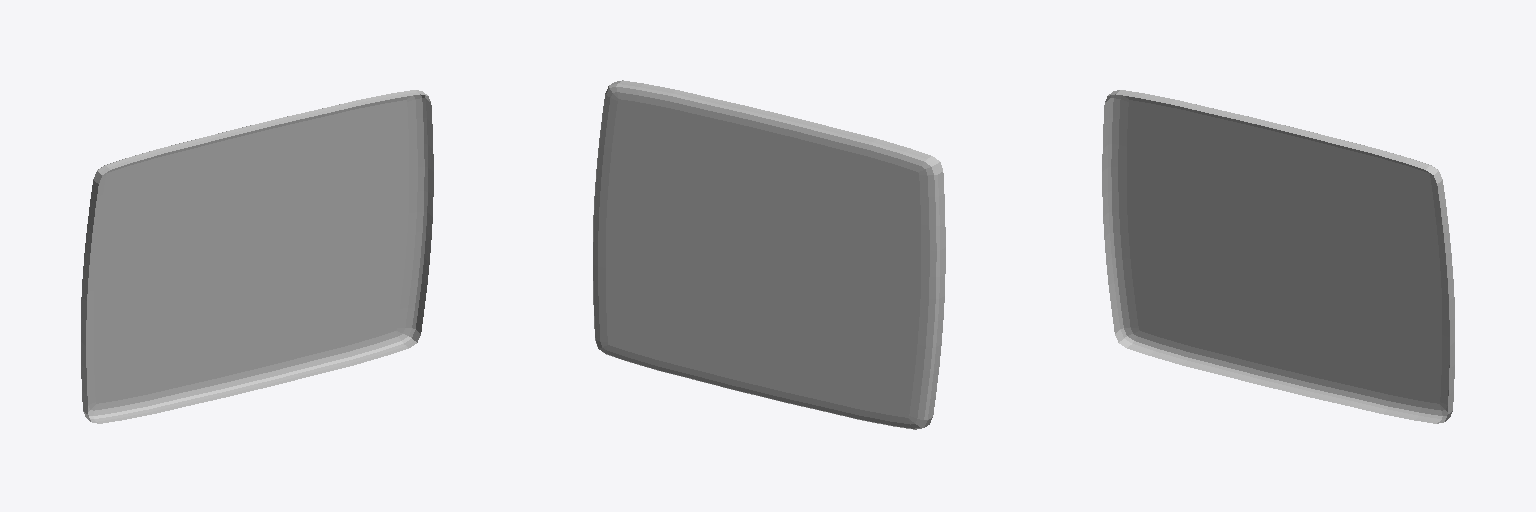
The model's file is Screen.obj.
The picture shows the model from 3 angles: view 1: azimuth 30°, elevation 25°; view 2: azimuth 150°, elevation 25°; view 3: azimuth 330°, elevation 25°; orthographic projection.
Visible parts, largest first — view 1: Cube; view 2: Cube; view 3: Cube.
Boxes of the visible parts, <box> form: Cube: <box>81,90,433,423</box>; Cube: <box>593,80,945,429</box>; Cube: <box>1102,90,1454,423</box>.
Bounding box in the file's own units: 8.15 × 6.12 × 0.7993.